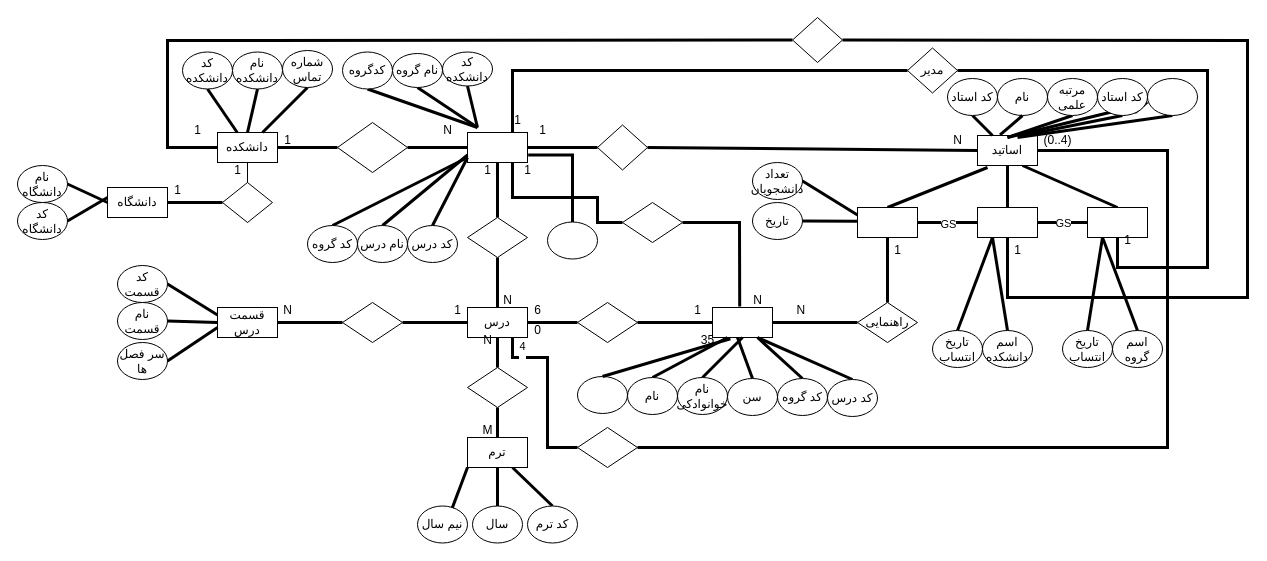
This 1267x561 diagram has some shape labels left out. The centre of each missing label's shape, as x and y in pixels:
ارائه می دهد: point 497,237
ارائه می شود: point 497,387
استاد راهنما: point 887,222
ایمیل: point 1172,97
تدریس: point 607,447
تشکیل: point 372,322
تعداد واحد: point 572,240
تعلق دارد: point 652,222
ثبت نام: point 607,322
دارد: point 247,202
دانشجو: point 742,322
رییس: point 817,39
رییس دانشکده: point 1007,222
شامل می شود: point 372,147
عضو: point 622,147
مدیر گروه: point 1117,222
کد دانشجو: point 602,395
گروه: point 497,147
